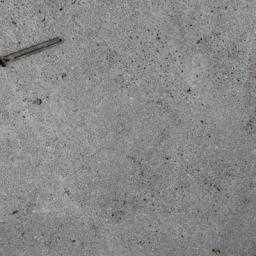FOD: (1, 37, 68, 69)
